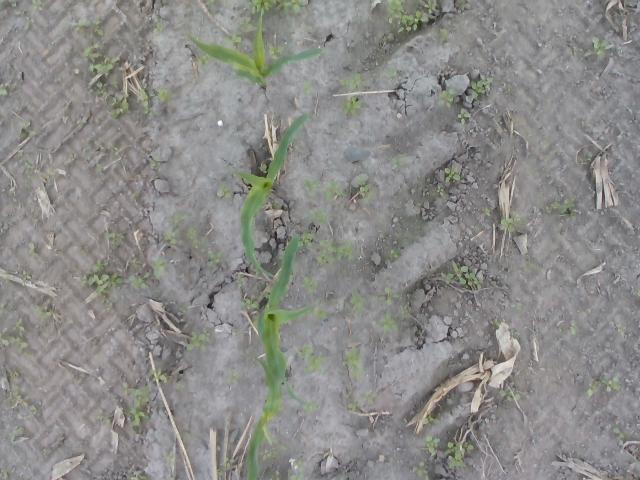Maize: (228, 112, 310, 274), (252, 232, 322, 406), (186, 9, 325, 88), (246, 352, 284, 480)
Weeds: (78, 259, 124, 311), (386, 0, 436, 34), (87, 80, 131, 118), (82, 40, 119, 76), (441, 261, 483, 291), (294, 342, 328, 374), (315, 238, 355, 264), (0, 318, 30, 350), (444, 439, 474, 470), (246, 0, 307, 15), (342, 346, 367, 380), (122, 380, 150, 408), (126, 406, 150, 434), (584, 36, 614, 58), (352, 174, 374, 203), (544, 197, 576, 216), (499, 210, 524, 234), (187, 328, 212, 352), (74, 18, 104, 36), (471, 74, 492, 99), (137, 88, 155, 117), (198, 246, 224, 266), (151, 258, 174, 279), (376, 312, 400, 332), (338, 72, 364, 89), (340, 96, 362, 116), (321, 180, 344, 199), (346, 290, 364, 314), (384, 65, 408, 82), (3, 384, 23, 404), (420, 436, 441, 454), (18, 119, 36, 140), (128, 272, 150, 289), (163, 212, 189, 226), (187, 224, 201, 250), (438, 88, 456, 108), (288, 460, 306, 480), (15, 10, 35, 28), (238, 294, 260, 310), (412, 461, 430, 480), (309, 208, 328, 226), (300, 276, 320, 293), (378, 288, 399, 304), (602, 376, 622, 392), (302, 176, 318, 196), (148, 367, 168, 383), (104, 231, 125, 246), (267, 42, 284, 60), (302, 396, 318, 415), (8, 424, 24, 442), (268, 437, 288, 451), (35, 304, 52, 320), (296, 232, 314, 247), (156, 88, 172, 104), (217, 183, 233, 199), (163, 228, 179, 244), (237, 16, 254, 31), (444, 167, 461, 182), (498, 389, 521, 400), (346, 399, 364, 413), (456, 108, 471, 124), (223, 33, 243, 45), (224, 370, 240, 385), (24, 161, 35, 182), (422, 414, 441, 426), (258, 448, 276, 460), (391, 156, 406, 170), (362, 391, 378, 404), (612, 428, 629, 440), (27, 241, 39, 258), (196, 53, 210, 66), (314, 309, 328, 322), (95, 414, 113, 424), (438, 28, 449, 44), (219, 457, 235, 468), (166, 450, 177, 465), (0, 81, 11, 96), (248, 314, 258, 330), (301, 80, 313, 93), (388, 248, 401, 260), (456, 0, 469, 12), (235, 274, 246, 288), (44, 168, 56, 180), (150, 156, 162, 168), (587, 382, 598, 395), (130, 472, 147, 480), (571, 318, 578, 336), (108, 142, 119, 153), (616, 322, 626, 334), (509, 328, 521, 338), (31, 0, 43, 10), (511, 301, 524, 310), (252, 262, 260, 276), (66, 154, 76, 165), (0, 469, 10, 480), (21, 270, 32, 280), (491, 318, 501, 329), (540, 139, 552, 148), (154, 24, 164, 34), (132, 259, 142, 269), (400, 305, 410, 315), (259, 163, 269, 173), (506, 84, 516, 94), (583, 152, 593, 162), (436, 184, 444, 196), (0, 301, 7, 314), (130, 190, 140, 199), (231, 326, 240, 336), (522, 262, 532, 271), (215, 468, 224, 478), (259, 290, 270, 298), (95, 163, 104, 172), (572, 46, 580, 56), (274, 470, 282, 480), (204, 0, 216, 6), (174, 383, 184, 390), (329, 476, 345, 480), (484, 208, 491, 217), (29, 404, 36, 411), (77, 119, 86, 124), (180, 307, 187, 313), (635, 290, 640, 297), (272, 203, 278, 208), (0, 0, 7, 4), (168, 477, 176, 480)
